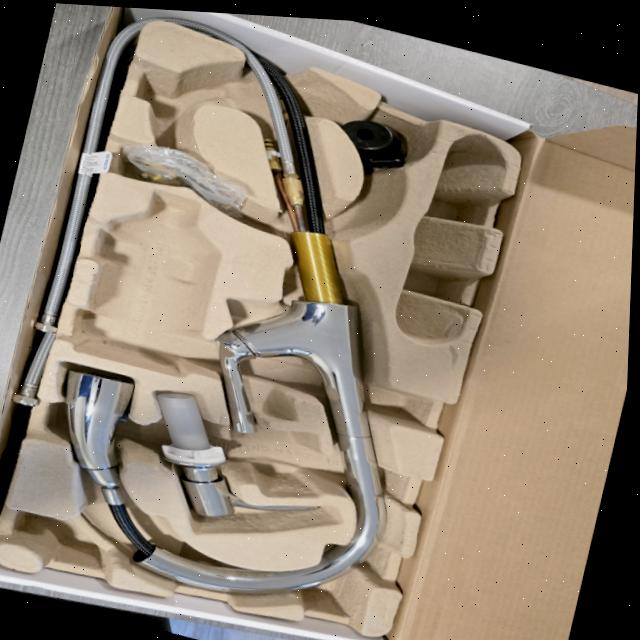1: (61, 40, 387, 594)
2: (158, 391, 322, 518)
3m: (77, 190, 217, 376)
4m: (397, 137, 509, 343)
5: (341, 120, 411, 168)
6: (121, 142, 248, 216)
7m: (134, 67, 231, 136)
